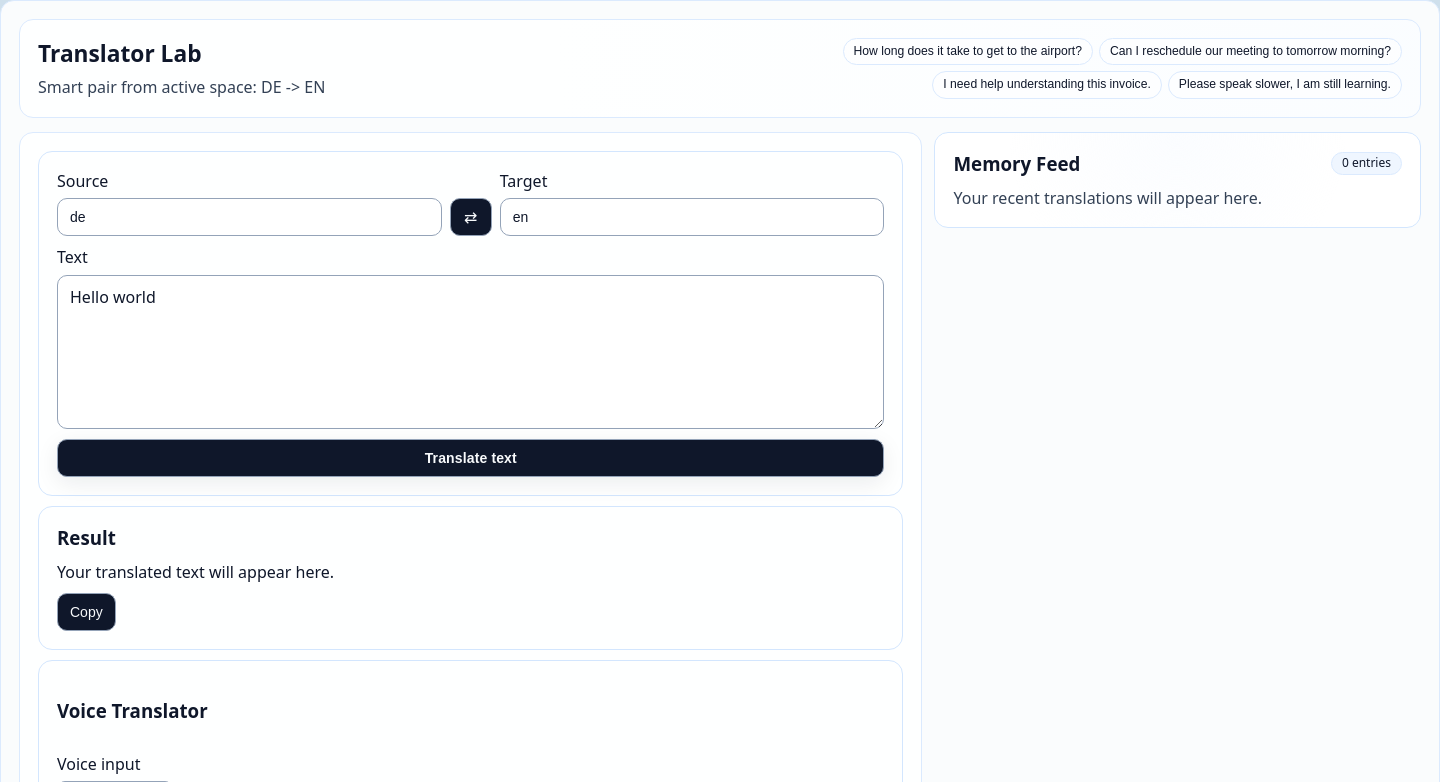
TranslatePage › uses active workspace language pair as defaults
This screenshot has width=1440, height=782.
Expected: the field showing "de" is shown, [57, 198, 442, 236]
Expected: the field showing "en" is shown, [500, 198, 884, 236]
Click the button "Translate text" at [471, 458], box [57, 438, 884, 476]
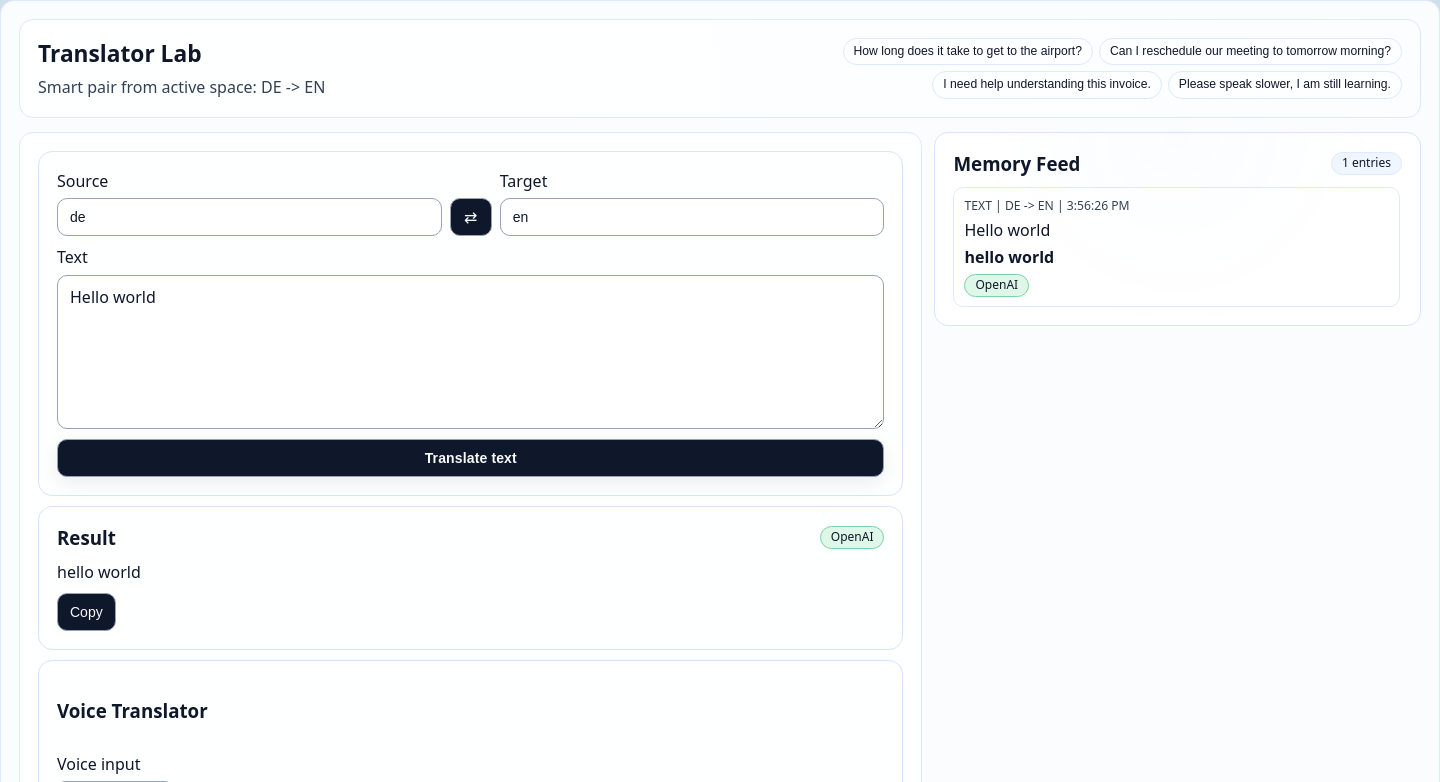
Result: the text "OpenAI" in the row of "Result" is shown at [831, 528, 874, 545]
